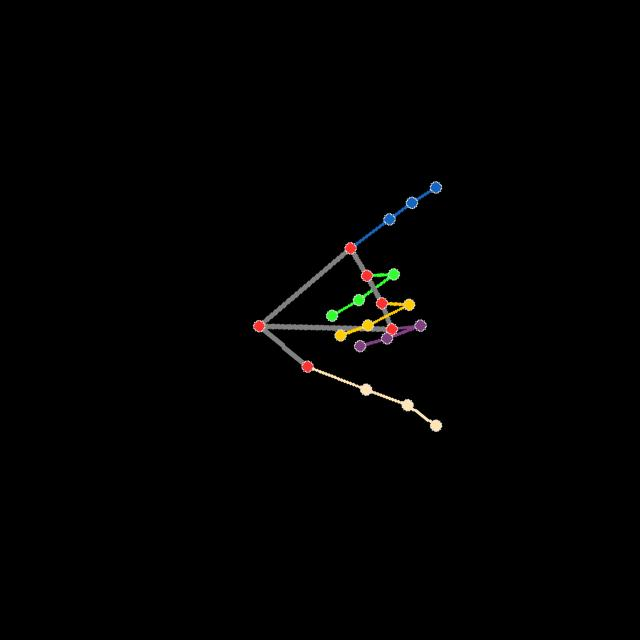skr: (247, 174, 444, 436)
